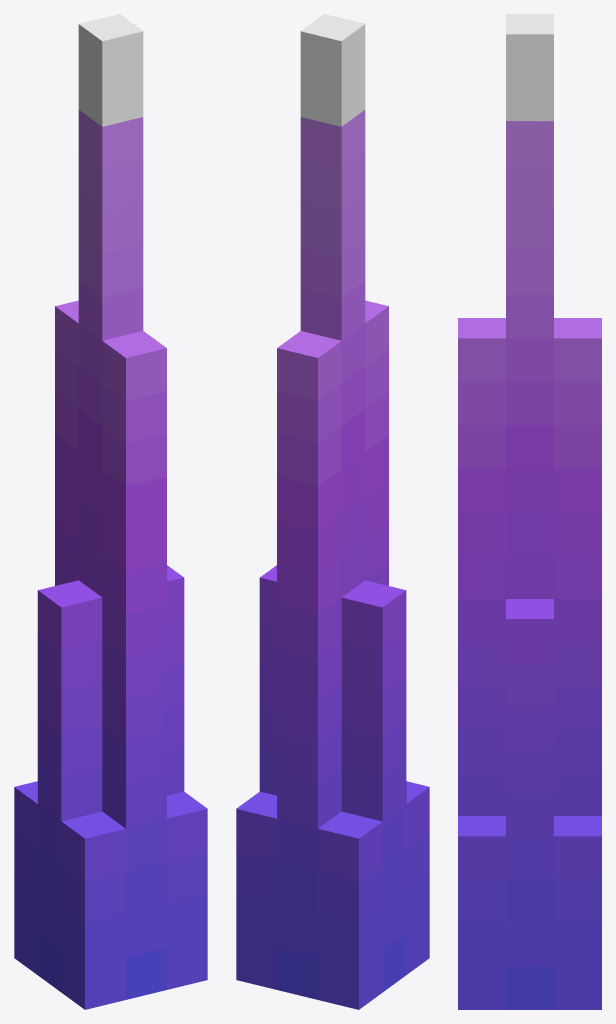
The model's file is VoidLordDreadSpears.obj.
3 views of the same model, side by side, from view 1: azimuth 30°, elevation 25°; view 2: azimuth 150°, elevation 25°; view 3: azimuth 270°, elevation 25° (orthographic).
Parts seen in each view (by area): view 1: VoidLordDreadSpears; view 2: VoidLordDreadSpears; view 3: VoidLordDreadSpears.
Part boxes in pixels (x1=…): VoidLordDreadSpears: x1=14, y1=14, x2=207, y2=1009; VoidLordDreadSpears: x1=236, y1=14, x2=429, y2=1009; VoidLordDreadSpears: x1=458, y1=14, x2=601, y2=1009.
Bounding box in the file's own units: 3 × 22 × 3.
1 material, 1 textured.
